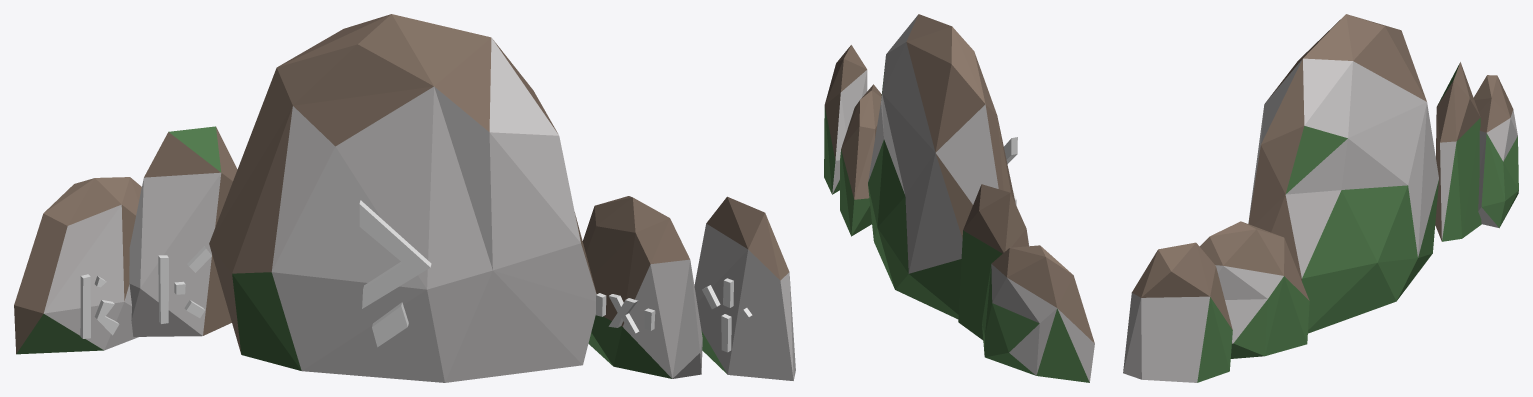
File: Altar.fbx
3 renders of one model, left to right at view 1: azimuth 30°, elevation 25°; view 2: azimuth 150°, elevation 25°; view 3: azimuth 270°, elevation 25°, orthographic. The views are drawn at different scales.
Parts seen in each view (by area): view 1: altar, force, revival, speed, health, protection; view 2: altar, force; view 3: altar.
Part boxes in pixels (x1,y1,x2,y2): altar: [14, 14, 795, 382]; force: [359, 200, 431, 347]; revival: [158, 246, 211, 323]; speed: [80, 274, 119, 338]; health: [596, 293, 655, 333]; protection: [702, 278, 752, 352]; altar: [824, 14, 1094, 382]; force: [1004, 137, 1017, 205]; altar: [1123, 14, 1518, 382].
Size of the model in its own units: 1139 by 667 by 883.
